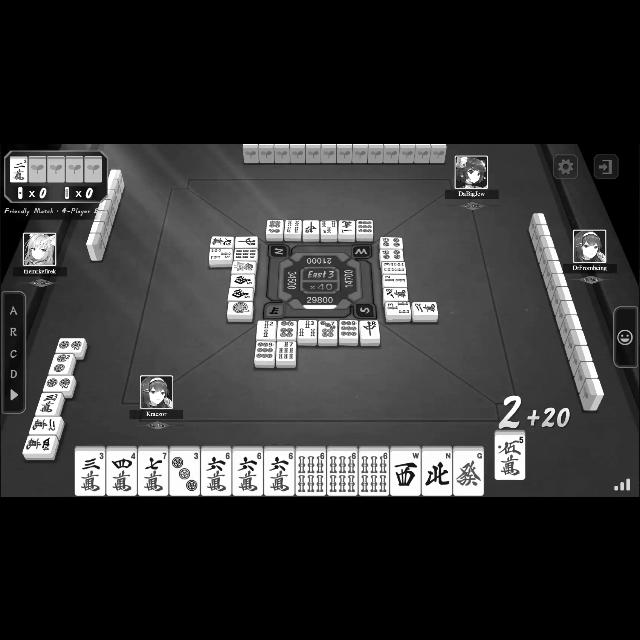1m: (340, 218, 354, 236)
1p: (229, 302, 251, 314)
1s: (233, 260, 254, 272)
2m: (32, 416, 58, 432), (10, 158, 28, 180), (414, 302, 436, 314)
2p: (46, 376, 72, 390), (53, 354, 71, 374), (58, 339, 84, 351)
2s: (257, 320, 275, 338), (384, 273, 406, 285)
3m: (74, 449, 106, 495), (41, 392, 58, 413)
3p: (170, 451, 200, 494)
3s: (386, 300, 410, 316), (299, 320, 315, 340), (210, 248, 232, 260), (322, 220, 338, 234)
4m: (108, 450, 136, 494), (24, 434, 54, 452)
4p: (381, 236, 402, 248), (381, 250, 403, 258)
4s: (286, 218, 300, 234), (384, 261, 404, 271)
5m: (496, 435, 524, 477)
6m: (202, 450, 230, 494), (234, 450, 262, 494), (265, 450, 293, 494)
6p: (279, 320, 297, 338), (268, 220, 280, 232)
6s: (296, 449, 326, 493), (328, 450, 358, 494), (361, 451, 387, 494)
7m: (140, 450, 168, 494)
7p: (318, 320, 338, 338)
7s: (278, 341, 294, 359)
8m: (384, 286, 408, 300)
9m: (214, 236, 232, 246)
9p: (340, 320, 358, 338), (257, 340, 273, 360), (356, 220, 374, 232)
9s: (235, 249, 257, 259)
chun: (360, 320, 380, 338), (237, 236, 257, 246), (304, 220, 318, 234)
hatsu: (454, 448, 484, 494)
nan: (232, 274, 254, 286), (230, 288, 252, 298)
pe: (424, 449, 452, 493)
sha: (392, 450, 420, 494)
